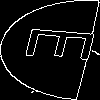E: (25, 25, 100, 65)
